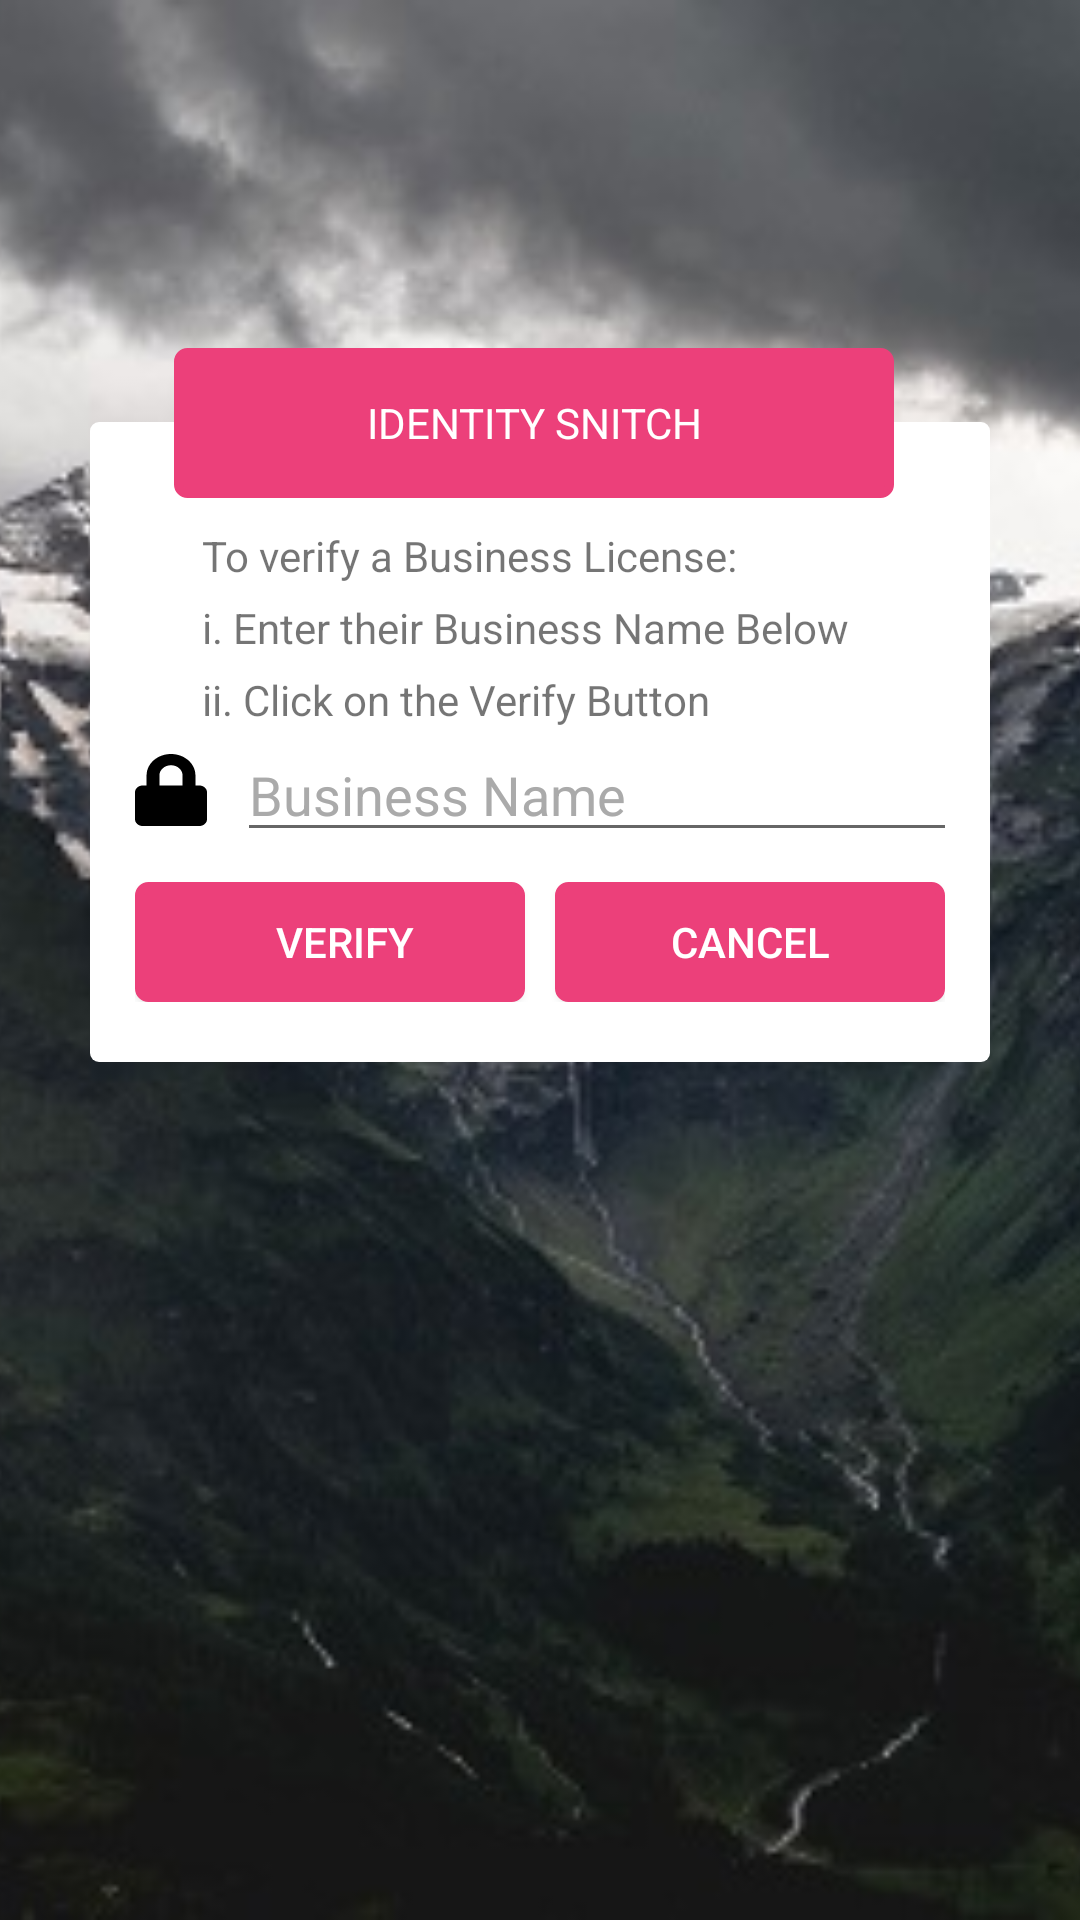

Point at icon controls on the screen. Image size 1080×1920, points as point (x, y).
lock: point (171, 790)
